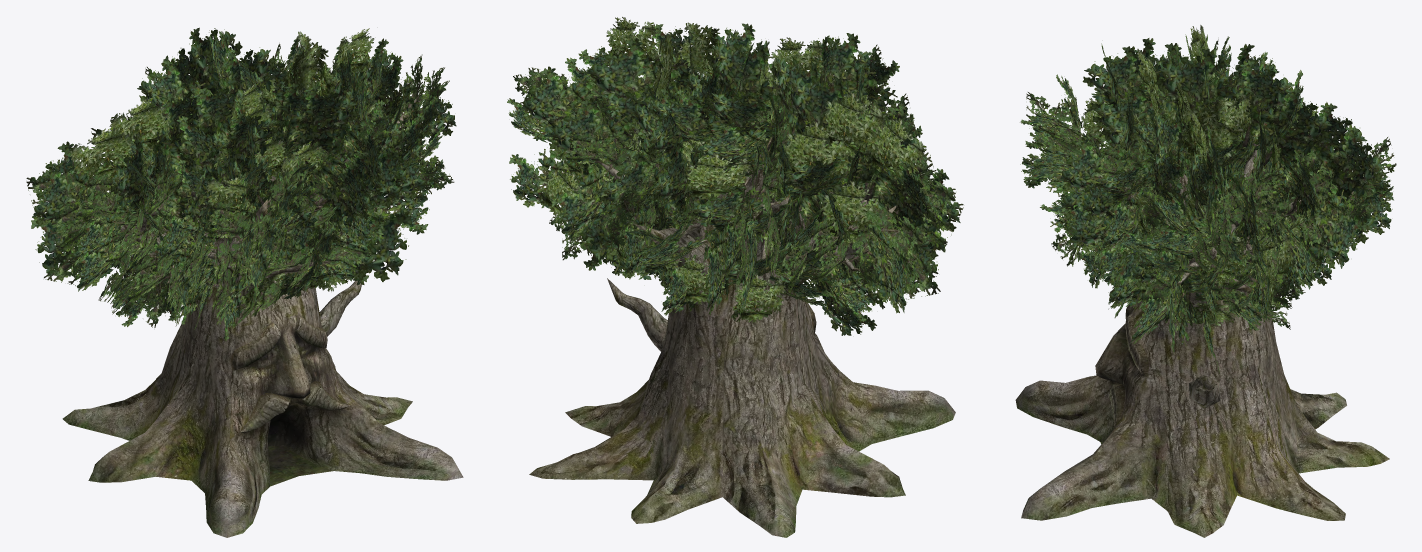
Rendered from deku-tree.glb.
3 views of the same model, side by side, from view 1: azimuth 30°, elevation 25°; view 2: azimuth 150°, elevation 25°; view 3: azimuth 270°, elevation 25° (orthographic). The views are drawn at different scales.
Parts seen in each view (by area): view 1: material_0-material; view 2: material_0-material; view 3: material_0-material.
Boxes of the visible parts, x1,y1,x2,y2 form: material_0-material: (26, 27, 463, 537); material_0-material: (507, 17, 963, 537); material_0-material: (1015, 25, 1396, 537).
Bounding box in the file's own units: 1409 × 1199 × 1060.
1 material, 1 textured.
